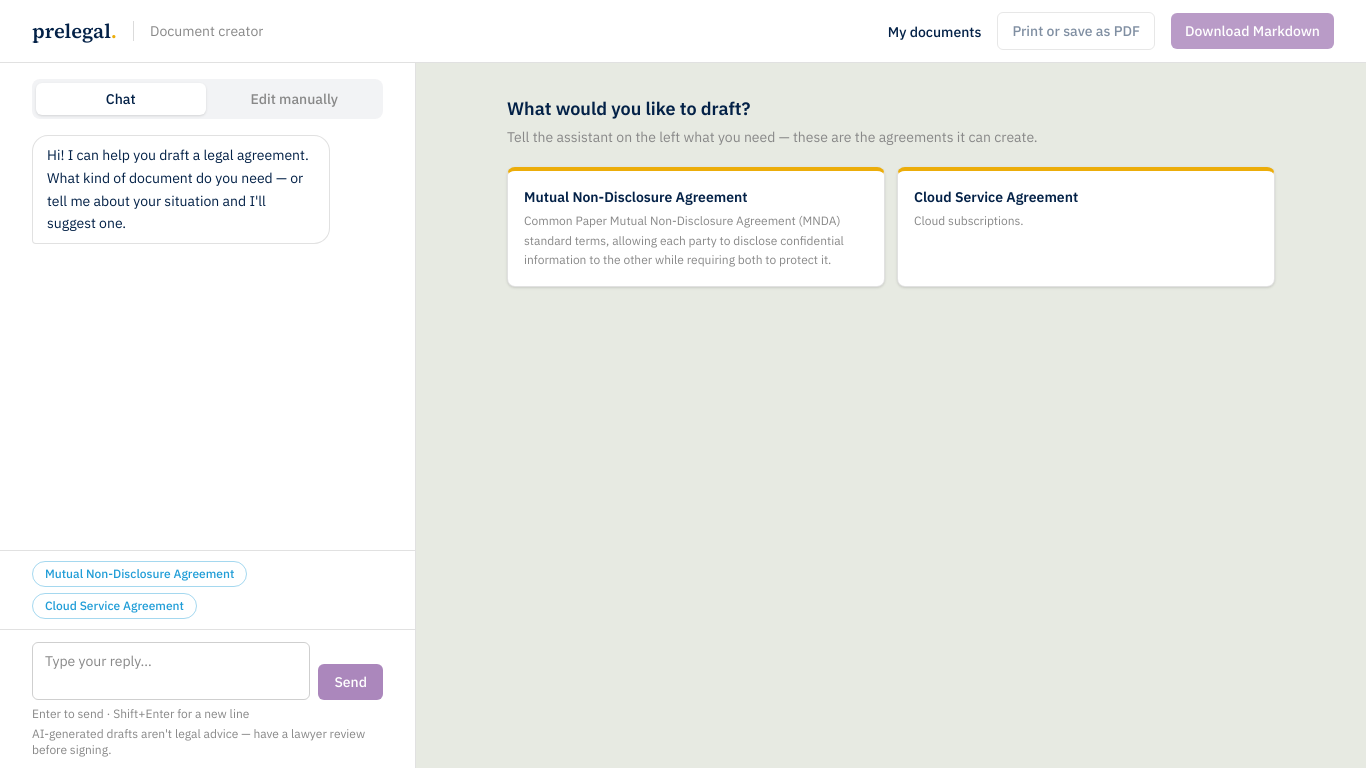
CreatePage › chat field updates reach the preview and the manual form, and manual edits reach the preview
Expected: the button "Cloud Service Agreement" is shown, x1=32 y1=593 x2=197 y2=619
In the text box named "Message the drafting assistant": (171, 671) x1=32 y1=642 x2=310 y2=700, type "We sell SaaS subscriptions"
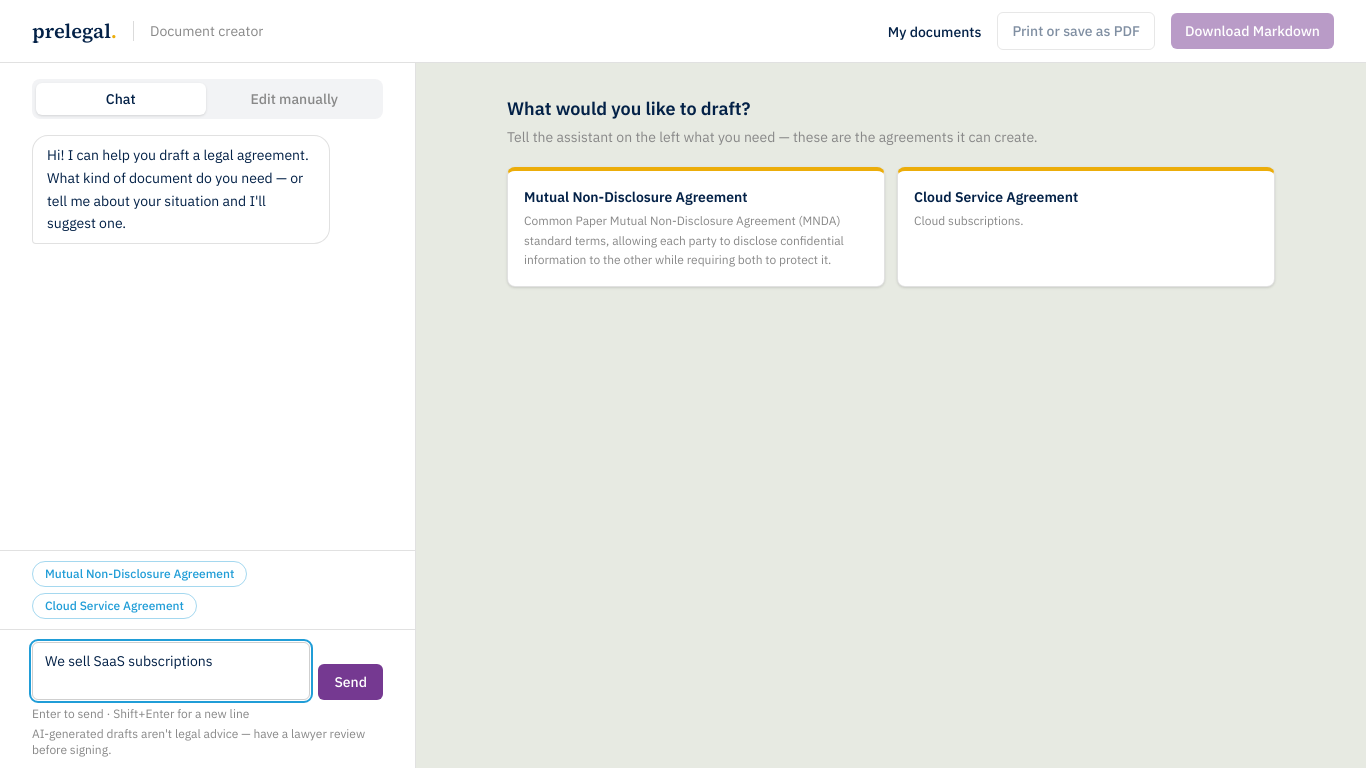
Click the button "Send": (351, 682) x1=318 y1=664 x2=383 y2=700
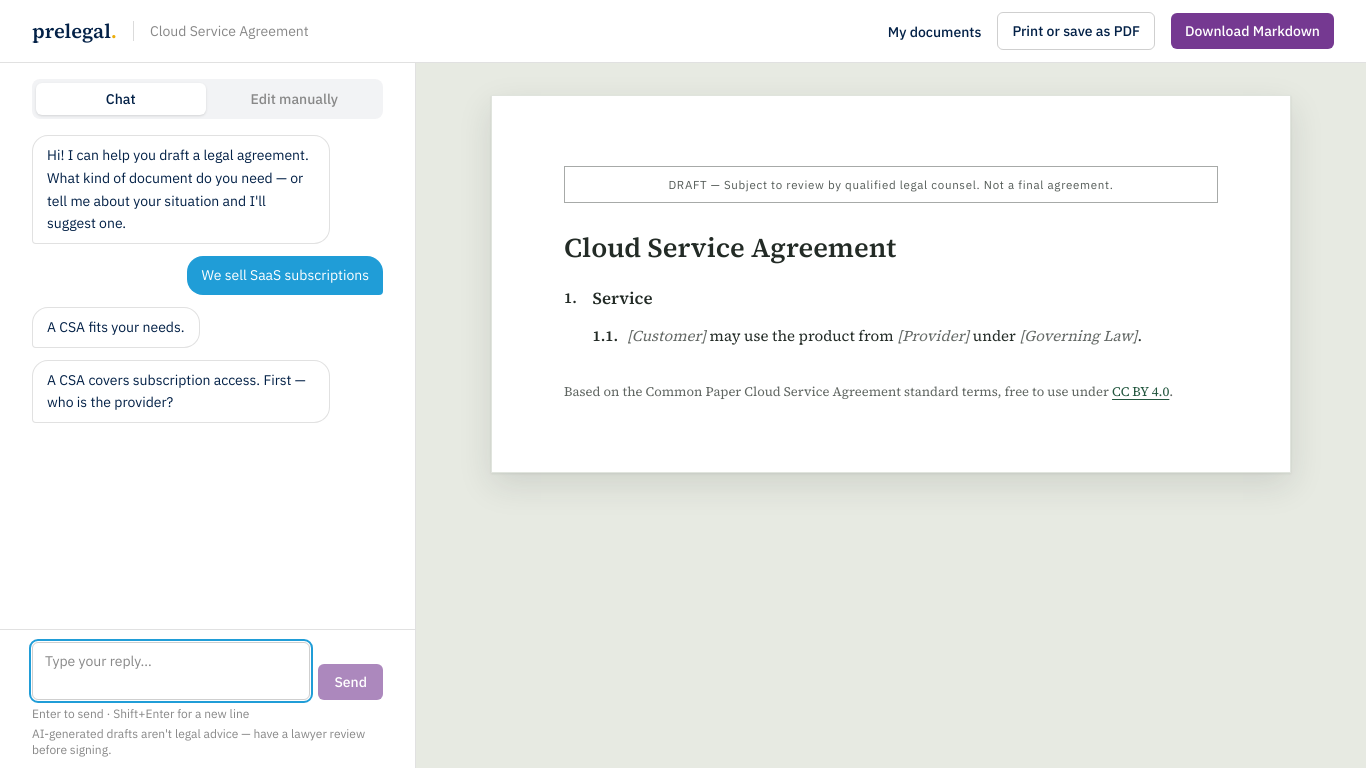
Result: the text "A CSA covers subscription access. First — who is the provider?" is shown at x1=32 y1=360 x2=330 y2=423
Result: the element named "Cloud Service Agreement preview" is shown at x1=564 y1=166 x2=1218 y2=403
In the text box named "Message the drafting assistant": (171, 671) x1=32 y1=642 x2=310 y2=700, type "Acme Inc is the provider"
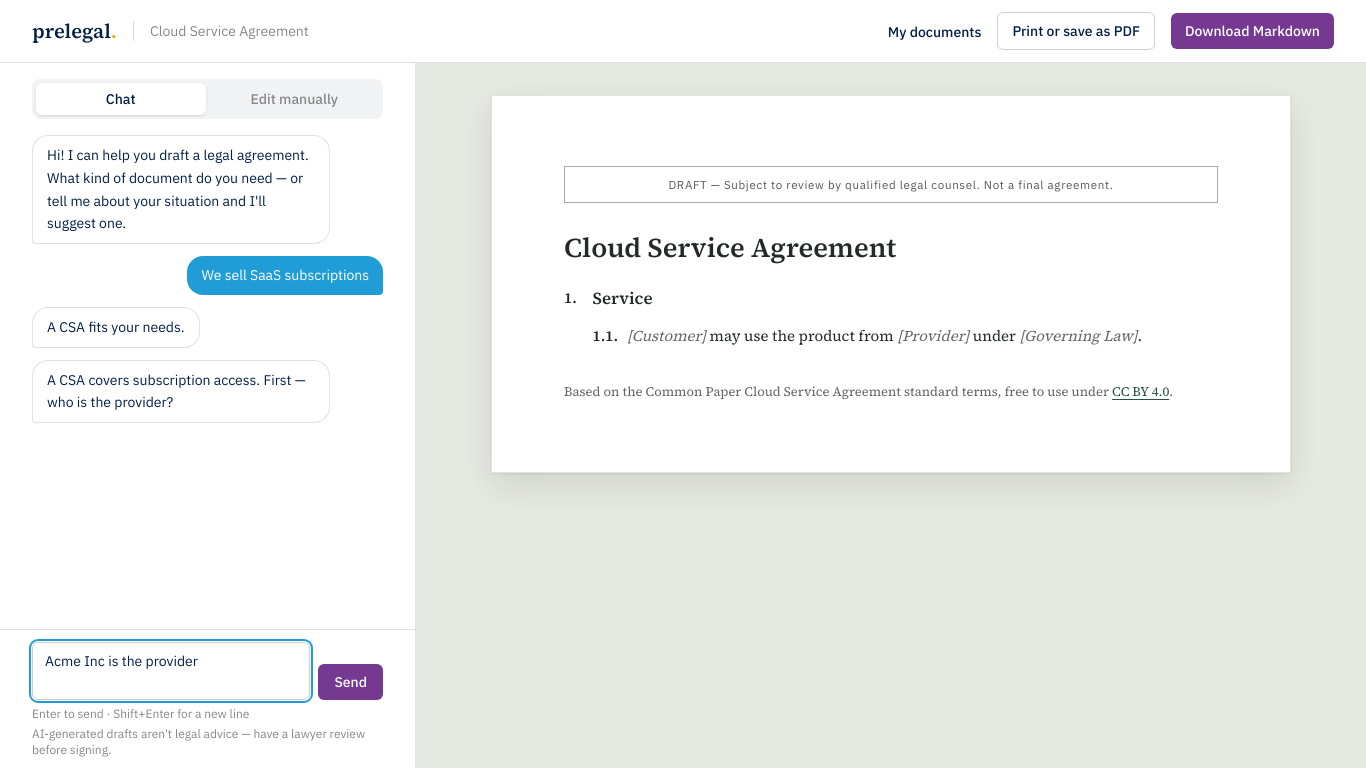
Click the button "Send": (351, 682) x1=318 y1=664 x2=383 y2=700
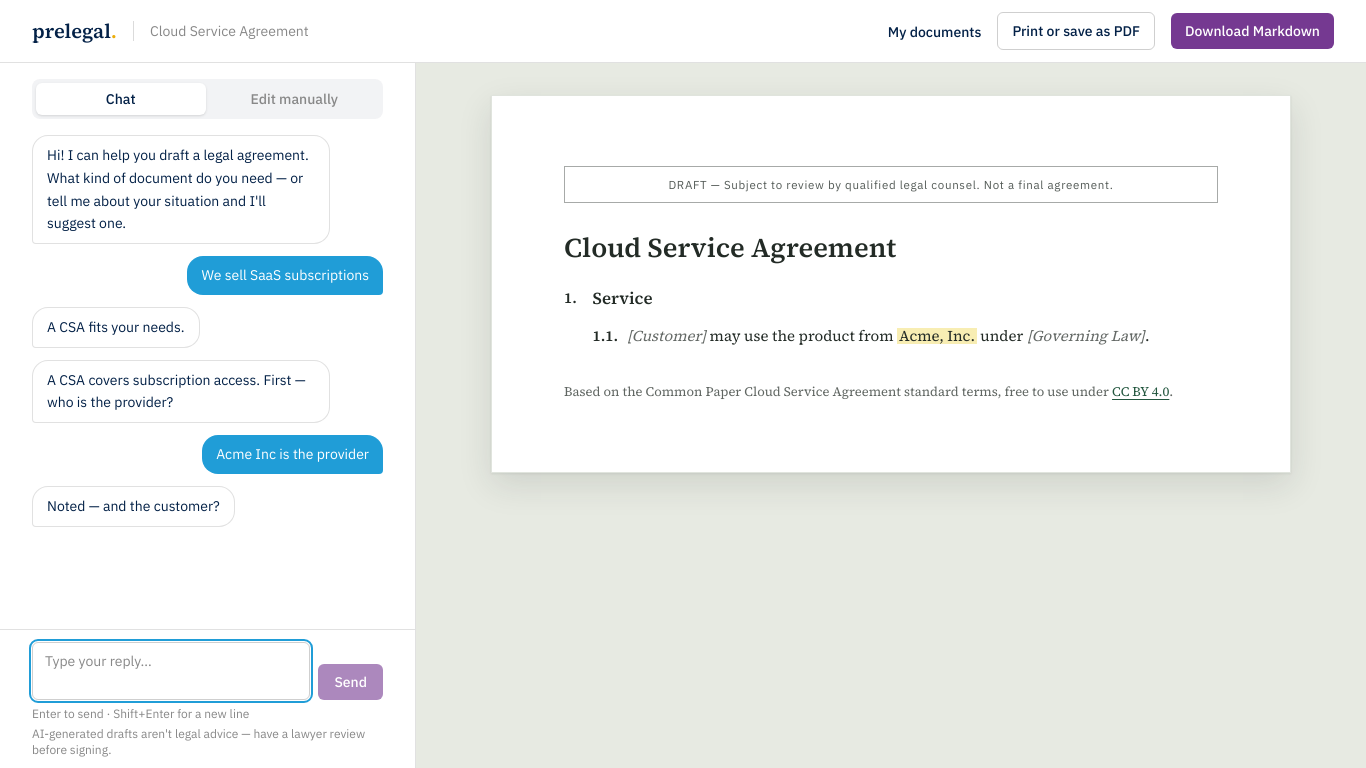
Result: the text "Noted — and the customer?" is shown at x1=32 y1=486 x2=235 y2=527
Result: the text "Acme, Inc." is shown at x1=897 y1=325 x2=977 y2=346
Click the tab "Edit manually": (294, 99) x1=210 y1=83 x2=379 y2=115
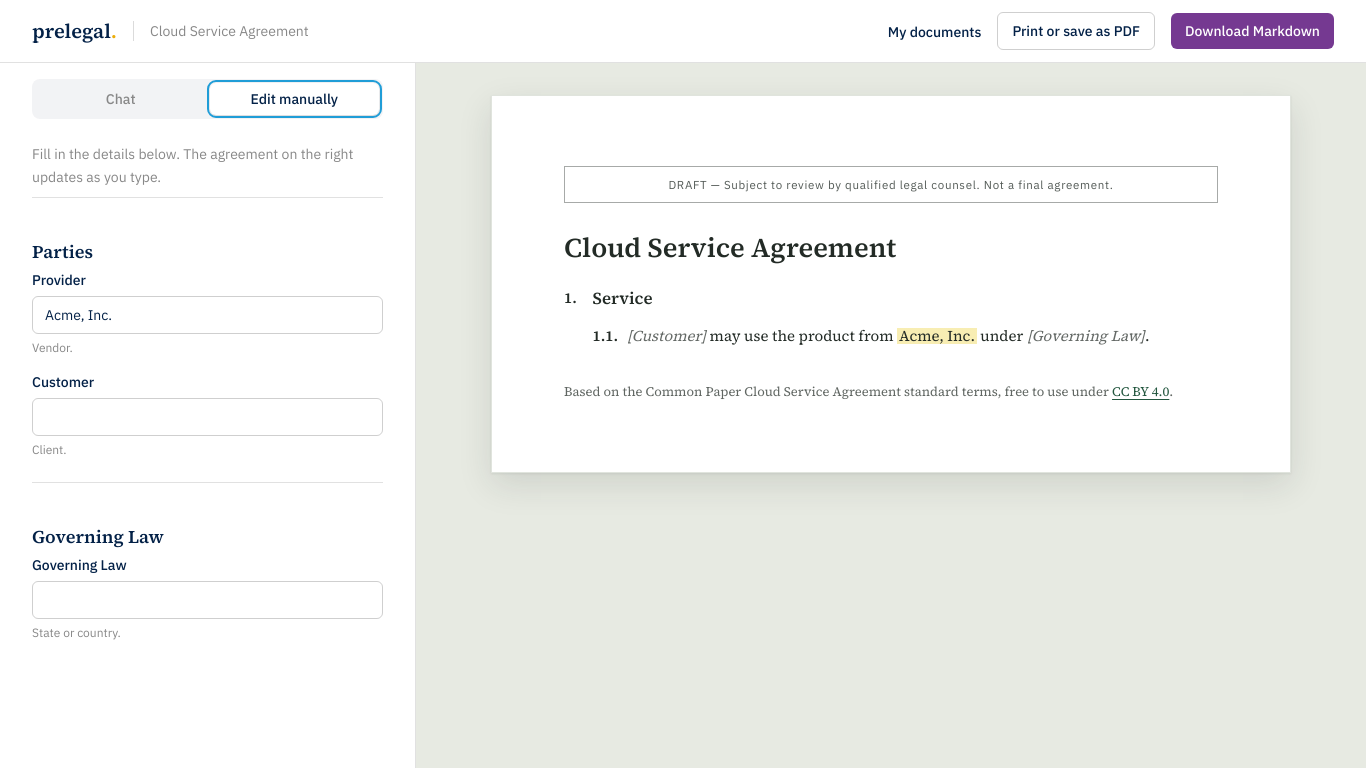
Result: the field labelled "Provider" holds "Acme, Inc." at x1=32 y1=296 x2=383 y2=334
In the field labelled "Governing Law": (208, 600) x1=32 y1=580 x2=383 y2=618, type "England and Wales"
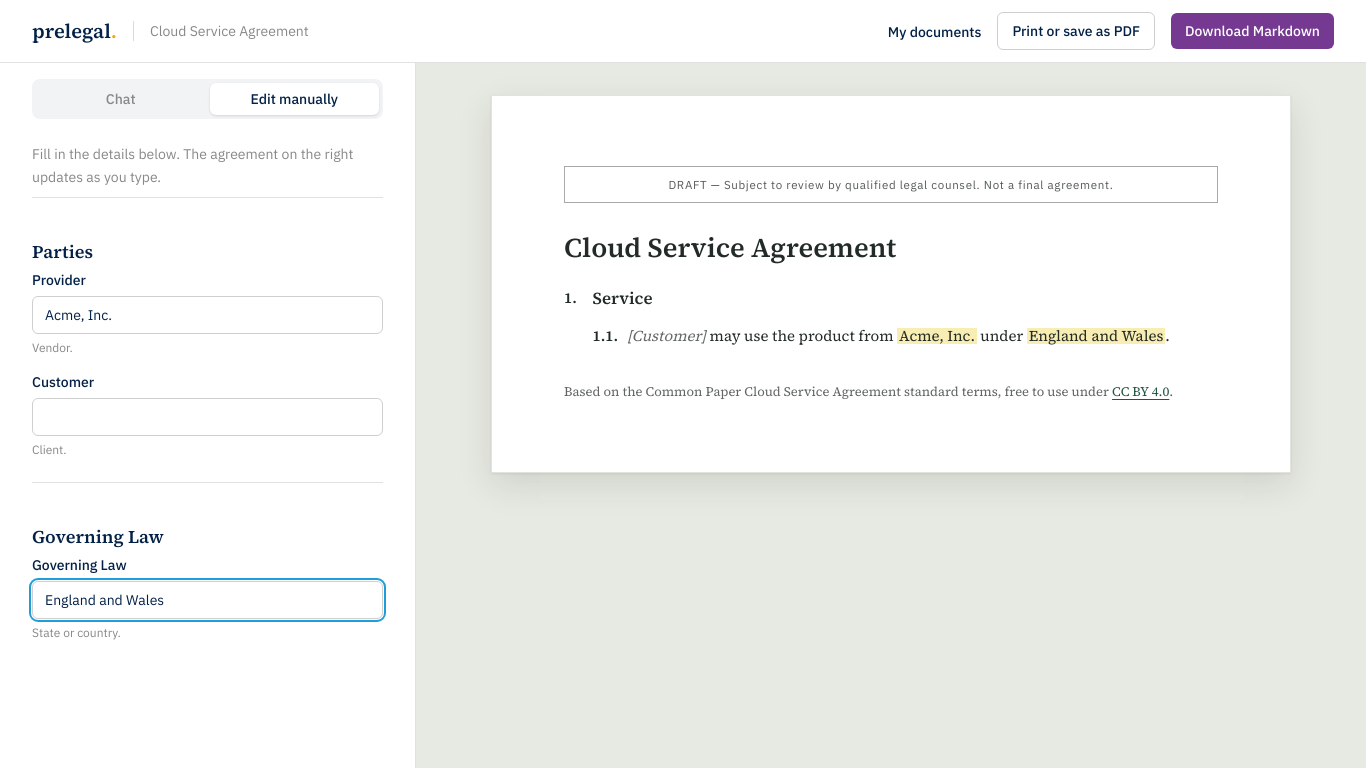
Result: the text "England and Wales" is shown at x1=1027 y1=325 x2=1165 y2=346
